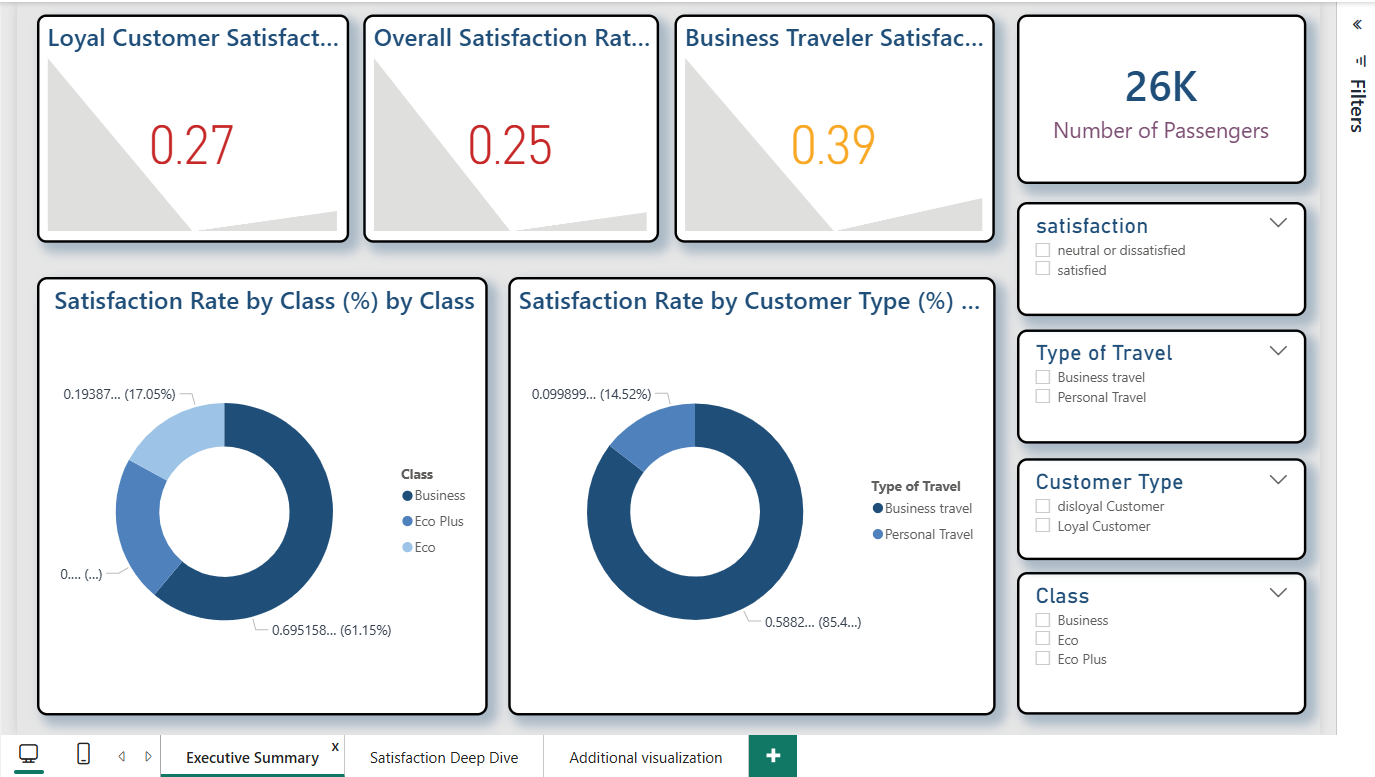

The page's visual inventory and layout, read from the dashboard file:
{"tool":"powerbi","page":{"name":"Executive Summary","canvas":[1280,720],"ordinal":0},"visuals":[{"type":"kpi","fields":{"Indicator":["Fact_Satisfaction.Overall Satisfaction Rate (%)"],"TrendLine":["Dim_Flight.Class"]},"box":[340,12,290,224],"z":0},{"type":"card","fields":{"Values":["Fact_Satisfaction.Number of Passengers"]},"box":[982,12,284,166],"z":1000},{"type":"kpi","fields":{"Indicator":["Fact_Satisfaction.Business Traveler Satisfaction Rate (%)"],"TrendLine":["Dim_Flight.Class"]},"box":[646,12,314,224],"z":2000},{"type":"kpi","fields":{"Indicator":["Fact_Satisfaction.Loyal Customer Satisfaction Rate (%)"],"TrendLine":["Dim_Flight.Class"]},"box":[20,12,306,224],"z":3000},{"type":"donutChart","fields":{"Y":["Fact_Satisfaction.Satisfaction Rate by Class (%)"],"Category":["Dim_Flight.Class"]},"box":[20,270,442,430],"z":4000},{"type":"donutChart","fields":{"Y":["Fact_Satisfaction.Satisfaction Rate by Customer Type (%)"],"Category":["Dim_Flight.Type of Travel","Dim_Passenger.Customer Type"]},"box":[482,270,478,430],"z":5000},{"type":"slicer","fields":{"Values":["Dim_Flight.Class"]},"box":[982,560,284,140],"z":6000},{"type":"slicer","fields":{"Values":["Dim_Passenger.Customer Type"]},"box":[982,448,284,100],"z":7000},{"type":"slicer","fields":{"Values":["Dim_Flight.Type of Travel"]},"box":[982,322,284,112],"z":8000},{"type":"slicer","fields":{"Values":["Dim_Service.satisfaction"]},"box":[982,196,284,112],"z":9000}]}

Visuals, with their boxes in screenshot pixels (x1, y1, x2, y2):
kpi - Fact_Satisfaction.Overall Satisfaction Rate (%) x Dim_Flight.Class: [left=358, top=9, right=654, bottom=238]
card - Fact_Satisfaction.Number of Passengers: [left=1014, top=9, right=1304, bottom=178]
kpi - Fact_Satisfaction.Business Traveler Satisfaction Rate (%) x Dim_Flight.Class: [left=671, top=9, right=992, bottom=238]
kpi - Fact_Satisfaction.Loyal Customer Satisfaction Rate (%) x Dim_Flight.Class: [left=31, top=9, right=344, bottom=238]
donutChart - Fact_Satisfaction.Satisfaction Rate by Class (%) x Dim_Flight.Class: [left=31, top=272, right=483, bottom=712]
donutChart - Fact_Satisfaction.Satisfaction Rate by Customer Type (%) x Dim_Flight.Type of Travel: [left=503, top=272, right=992, bottom=712]
slicer - Dim_Flight.Class: [left=1014, top=569, right=1304, bottom=712]
slicer - Dim_Passenger.Customer Type: [left=1014, top=454, right=1304, bottom=556]
slicer - Dim_Flight.Type of Travel: [left=1014, top=325, right=1304, bottom=440]
slicer - Dim_Service.satisfaction: [left=1014, top=197, right=1304, bottom=311]
